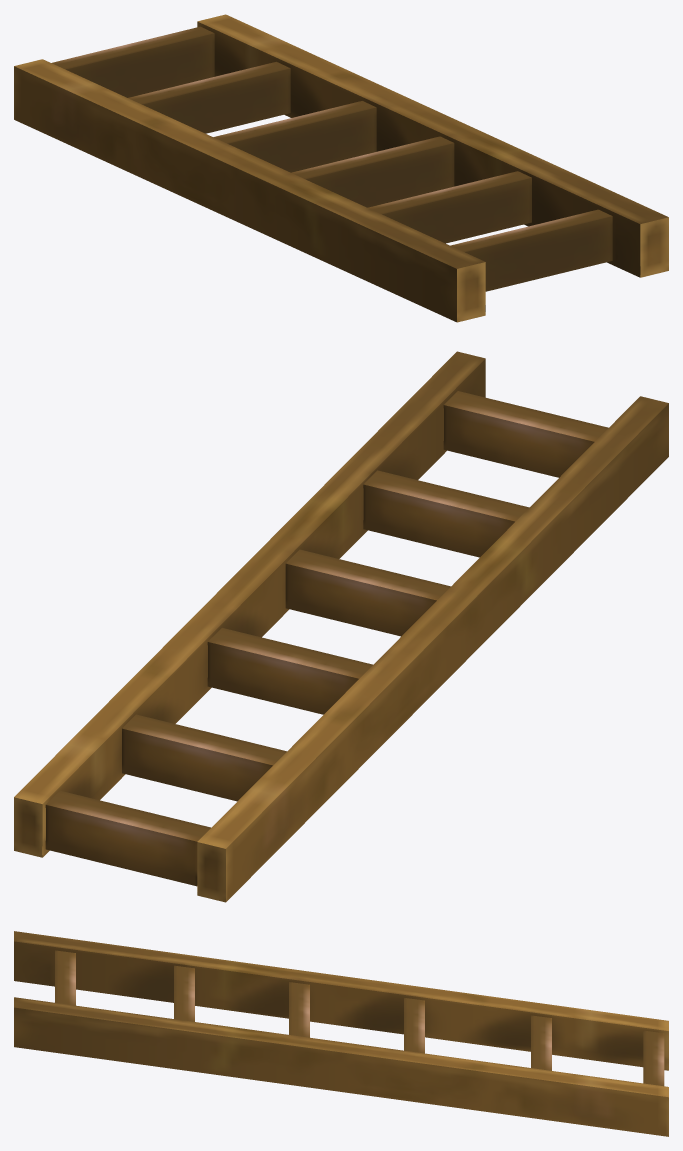
Rendered from props_ladder.fbx.
The picture shows the model from 3 angles, top to bottom: view 1: azimuth 30°, elevation 25°; view 2: azimuth 150°, elevation 25°; view 3: azimuth 270°, elevation 25°; orthographic projection. The views are drawn at different scales.
Visible parts, largest first — view 1: ladder; view 2: ladder; view 3: ladder.
Boxes of the visible parts, bbox=[...] form: ladder: bbox=[14, 14, 668, 322]; ladder: bbox=[14, 351, 668, 902]; ladder: bbox=[14, 931, 668, 1136].
Size of the model in its own units: 0.8283 by 0.6539 by 3.
Materials: 1 (1 with a texture image).
